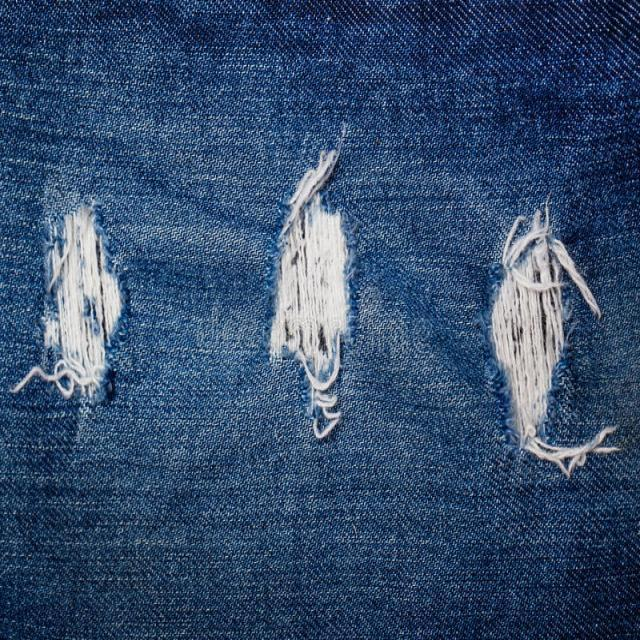Hole: (493, 203, 618, 478), (269, 148, 351, 440), (15, 204, 124, 404)
